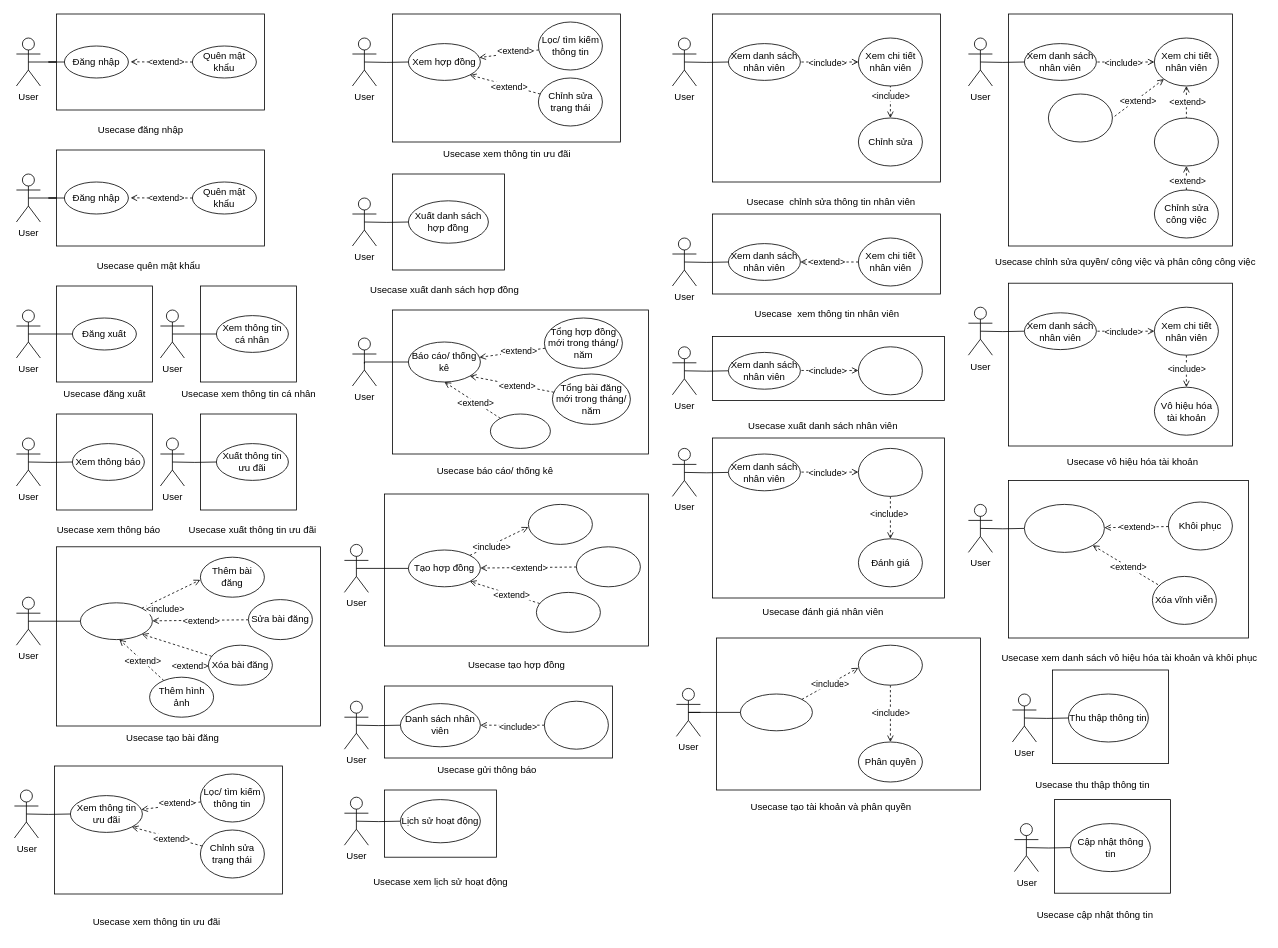
The diagram is 1278 pixels wide and 948 high, and some of its shapes have lost their labels. Here are the shapes that lost their labels. From the top down, the centre of each, then its label:
At point (1080, 117): "Chỉnh sửa quyền".
At point (1186, 141): "Phân công công việc".
At point (890, 370): "Xuất danh sách nhân viên".
At point (520, 430): "Xuất dữ liệu".
At point (890, 472): "Xem thông tin chi tiết nhân viên".
At point (560, 524): "Thêm hợp đồng".
At point (1064, 528): "Xem danh sách nhân viên vô hiệu hóa".
At point (608, 566): "Sửa hợp đồng".
At point (116, 621): "Tạo bài đăng".
At point (568, 612): "Xóa hợp đồng".
At point (890, 664): "Thêm tài khoản".
At point (576, 724): "Gửi thông báo".
At point (776, 712): "Tạo tài khoản".
